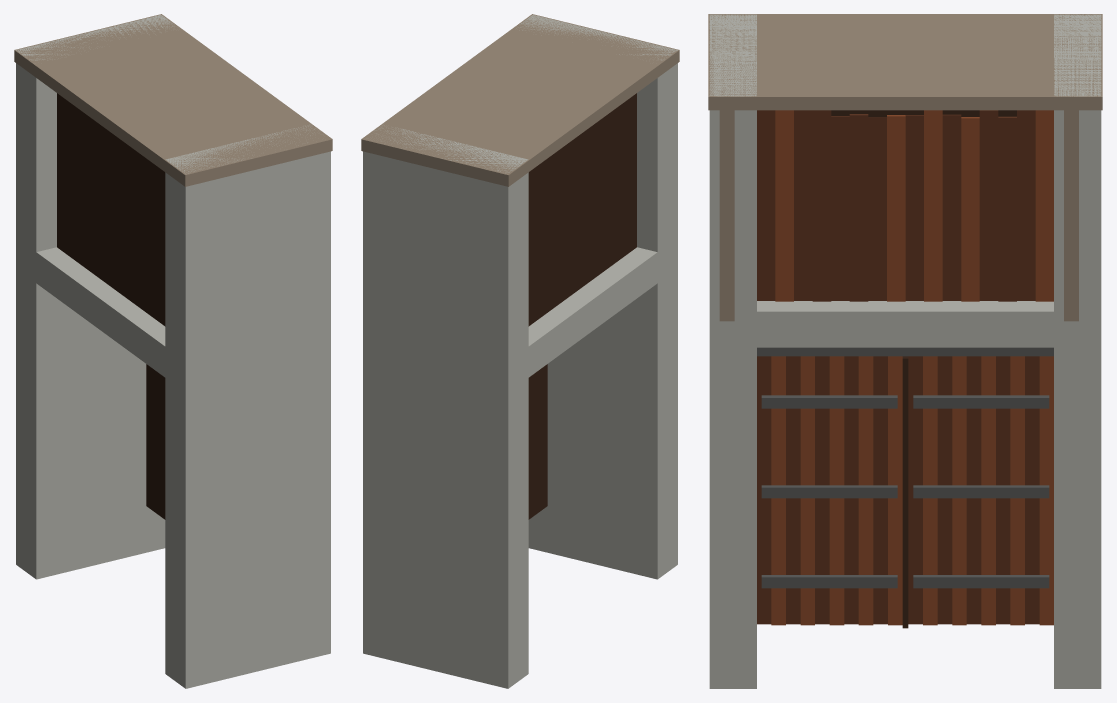
File: fort_compound_gate.glb
The picture shows the model from 3 angles, left to right: view 1: azimuth 30°, elevation 25°; view 2: azimuth 150°, elevation 25°; view 3: azimuth 270°, elevation 25°; orthographic projection. The views are drawn at different scales.
Visible parts, largest first — view 1: fort_compound_gate; view 2: fort_compound_gate; view 3: fort_compound_gate.
Part boxes in pixels (x1,y1,x2,y2): fort_compound_gate: [14, 14, 332, 688]; fort_compound_gate: [361, 14, 679, 688]; fort_compound_gate: [708, 14, 1102, 688].
Bounding box in the file's own units: 3.96 × 13.2 × 7.96.
